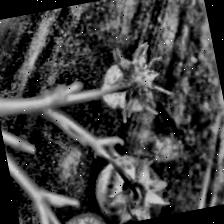Gray Mold: (100, 38, 178, 125)
